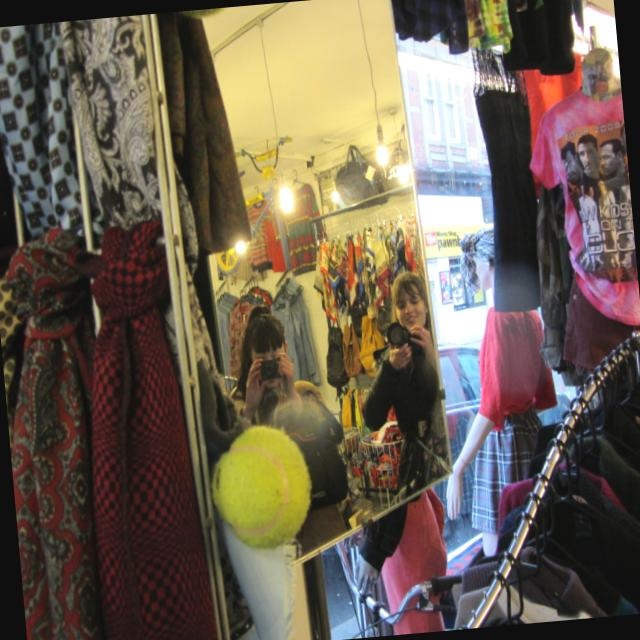Tennis Ball: (210, 421, 320, 554)
